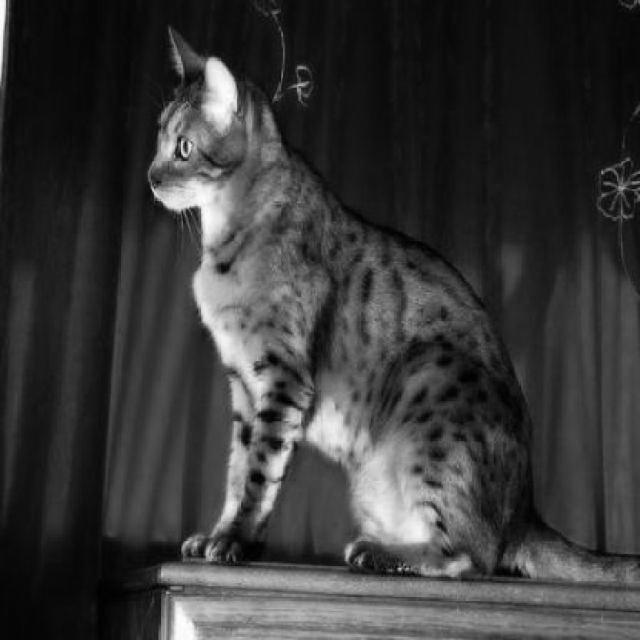Cat: (146, 22, 640, 590)
